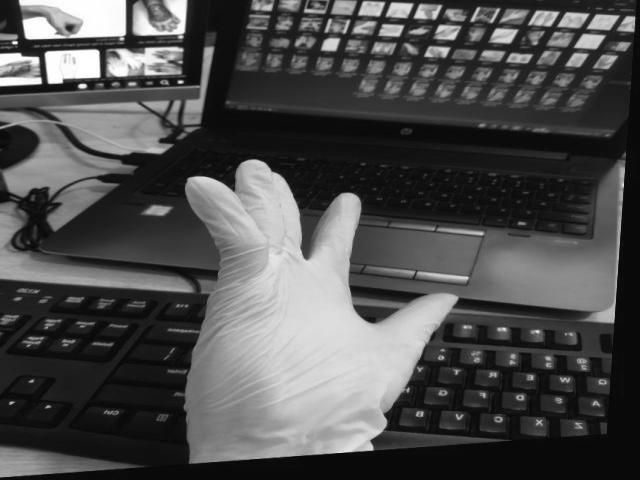gloved: (182, 156, 458, 466)
